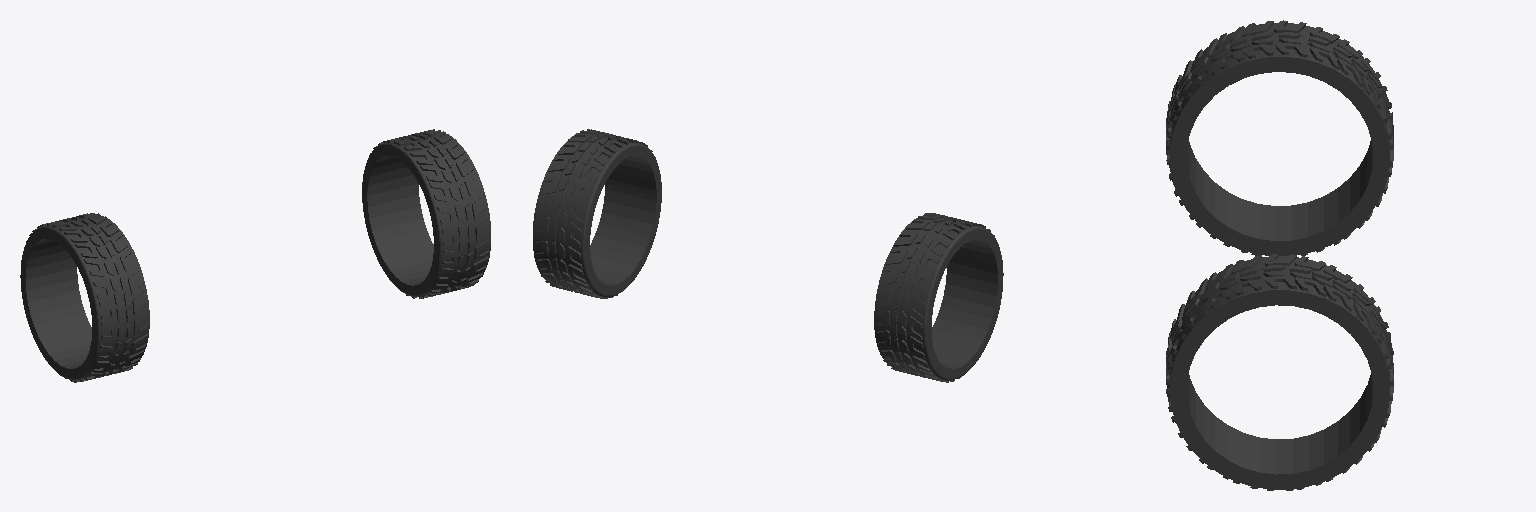
URDF robot description (self_balancing_robot_urdf):
<?xml version="1.0" encoding="utf-8"?>
<!-- This URDF was automatically created by SolidWorks to URDF Exporter! Originally created by [author] ([email redacted]) 
     Commit Version: 1.6.0-4-g7f85cfe  Build Version: 1.6.7995.38578
     For more information, please see http://wiki.ros.org/sw_urdf_exporter -->
<robot
  name="self_balancing_robot_urdf">
  <link
    name="base_link">
    <inertial>
      <origin
        xyz="0.000390001845714929 0.0531058768673548 0.000520955534077178"
        rpy="0 0 0" />
      <mass
        value="0.156499785354617" />
      <inertia
        ixx="4.4998860283552E-05"
        ixy="7.3801059384882E-08"
        ixz="-1.0553054171827E-07"
        iyy="0.00013717590508611"
        iyz="-3.01226808255147E-07"
        izz="9.75462410239346E-05" />
    </inertial>
    <visual>
      <origin
        xyz="0 0 0"
        rpy="0 0 0" />
      <geometry>
        <mesh
          filename="package://self_balancing_robot_urdf/meshes/base_link.STL" />
      </geometry>
      <material
        name="">
        <color
          rgba="0.792156862745098 0.819607843137255 0.933333333333333 1" />
      </material>
    </visual>
    <collision>
      <origin
        xyz="0 0 0"
        rpy="0 0 0" />
      <geometry>
        <mesh
          filename="package://self_balancing_robot_urdf/meshes/base_link.STL" />
      </geometry>
    </collision>
  </link>
  <link
    name="link_left_wheel">
    <inertial>
      <origin
        xyz="-1.3686E-05 -7.7641E-06 0.01241"
        rpy="0 0 0" />
      <mass
        value="0.025147" />
      <inertia
        ixx="1.3218E-05"
        ixy="5.9387E-09"
        ixz="-9.5471E-12"
        iyy="1.3211E-05"
        iyz="8.9095E-11"
        izz="2.3884E-05" />
    </inertial>
    <visual>
      <origin
        xyz="0 0 0"
        rpy="0 0 0" />
      <geometry>
        <mesh
          filename="package://self_balancing_robot_urdf/meshes/link_left_wheel.STL" />
      </geometry>
      <material
        name="">
        <color
          rgba="0.29412 0.29412 0.29412 1" />
      </material>
    </visual>
    <collision>
      <origin
        xyz="0 0 0"
        rpy="0 0 0" />
      <geometry>
        <mesh
          filename="package://self_balancing_robot_urdf/meshes/link_left_wheel.STL" />
      </geometry>
    </collision>
  </link>
  <joint
    name="joint_left_wheel"
    type="continuous">
    <origin
      xyz="-0.070108 -0.0015 -0.0165"
      rpy="1.5708 -1.262 -1.5708" />
    <parent
      link="base_link" />
    <child
      link="link_left_wheel" />
    <axis
      xyz="0 0 1" />
  </joint>
  <link
    name="link_right_wheel">
    <inertial>
      <origin
        xyz="-1.3686E-05 7.7641E-06 -0.01241"
        rpy="0 0 0" />
      <mass
        value="0.025147" />
      <inertia
        ixx="1.3218E-05"
        ixy="-5.9387E-09"
        ixz="9.5476E-12"
        iyy="1.3211E-05"
        iyz="8.9096E-11"
        izz="2.3884E-05" />
    </inertial>
    <visual>
      <origin
        xyz="0 0 0"
        rpy="0 0 0" />
      <geometry>
        <mesh
          filename="package://self_balancing_robot_urdf/meshes/link_right_wheel.STL" />
      </geometry>
      <material
        name="">
        <color
          rgba="0.29412 0.29412 0.29412 1" />
      </material>
    </visual>
    <collision>
      <origin
        xyz="0 0 0"
        rpy="0 0 0" />
      <geometry>
        <mesh
          filename="package://self_balancing_robot_urdf/meshes/link_right_wheel.STL" />
      </geometry>
    </collision>
  </link>
  <joint
    name="joint_right_wheel"
    type="fixed">
    <origin
      xyz="0.095 -0.0015 -0.0165"
      rpy="-1.5708 0 -1.5708" />
    <parent
      link="base_link" />
    <child
      link="link_right_wheel" />
    <axis
      xyz="0 0 1" />
  </joint>
</robot>

--- Render facts (derived) ---
3 views of the same robot in one strip: view 1: azimuth 30°, elevation 25°; view 2: azimuth 150°, elevation 25°; view 3: azimuth 270°, elevation 25° (orthographic).
Robot: self_balancing_robot_urdf — 3 links, 2 joints (1 continuous, 1 fixed); root link base_link; default pose: every joint at zero.
Visible links, largest first — view 1: link_left_wheel, link_right_wheel; view 2: link_left_wheel, link_right_wheel; view 3: link_right_wheel, link_left_wheel.
Boxes of the visible links, <box> form: link_left_wheel: <box>20,213,149,382</box>; link_right_wheel: <box>362,129,490,298</box>; link_left_wheel: <box>874,213,1003,382</box>; link_right_wheel: <box>533,129,661,298</box>; link_right_wheel: <box>1166,254,1393,490</box>; link_left_wheel: <box>1166,20,1393,255</box>.
Size in the robot's own frame: 0.19 by 0.068 by 0.068 metres.
2 mesh visuals loaded from 3 distinct referenced files (2 binary STL); not drawn: 1 (reference not matched to a file when rendering).